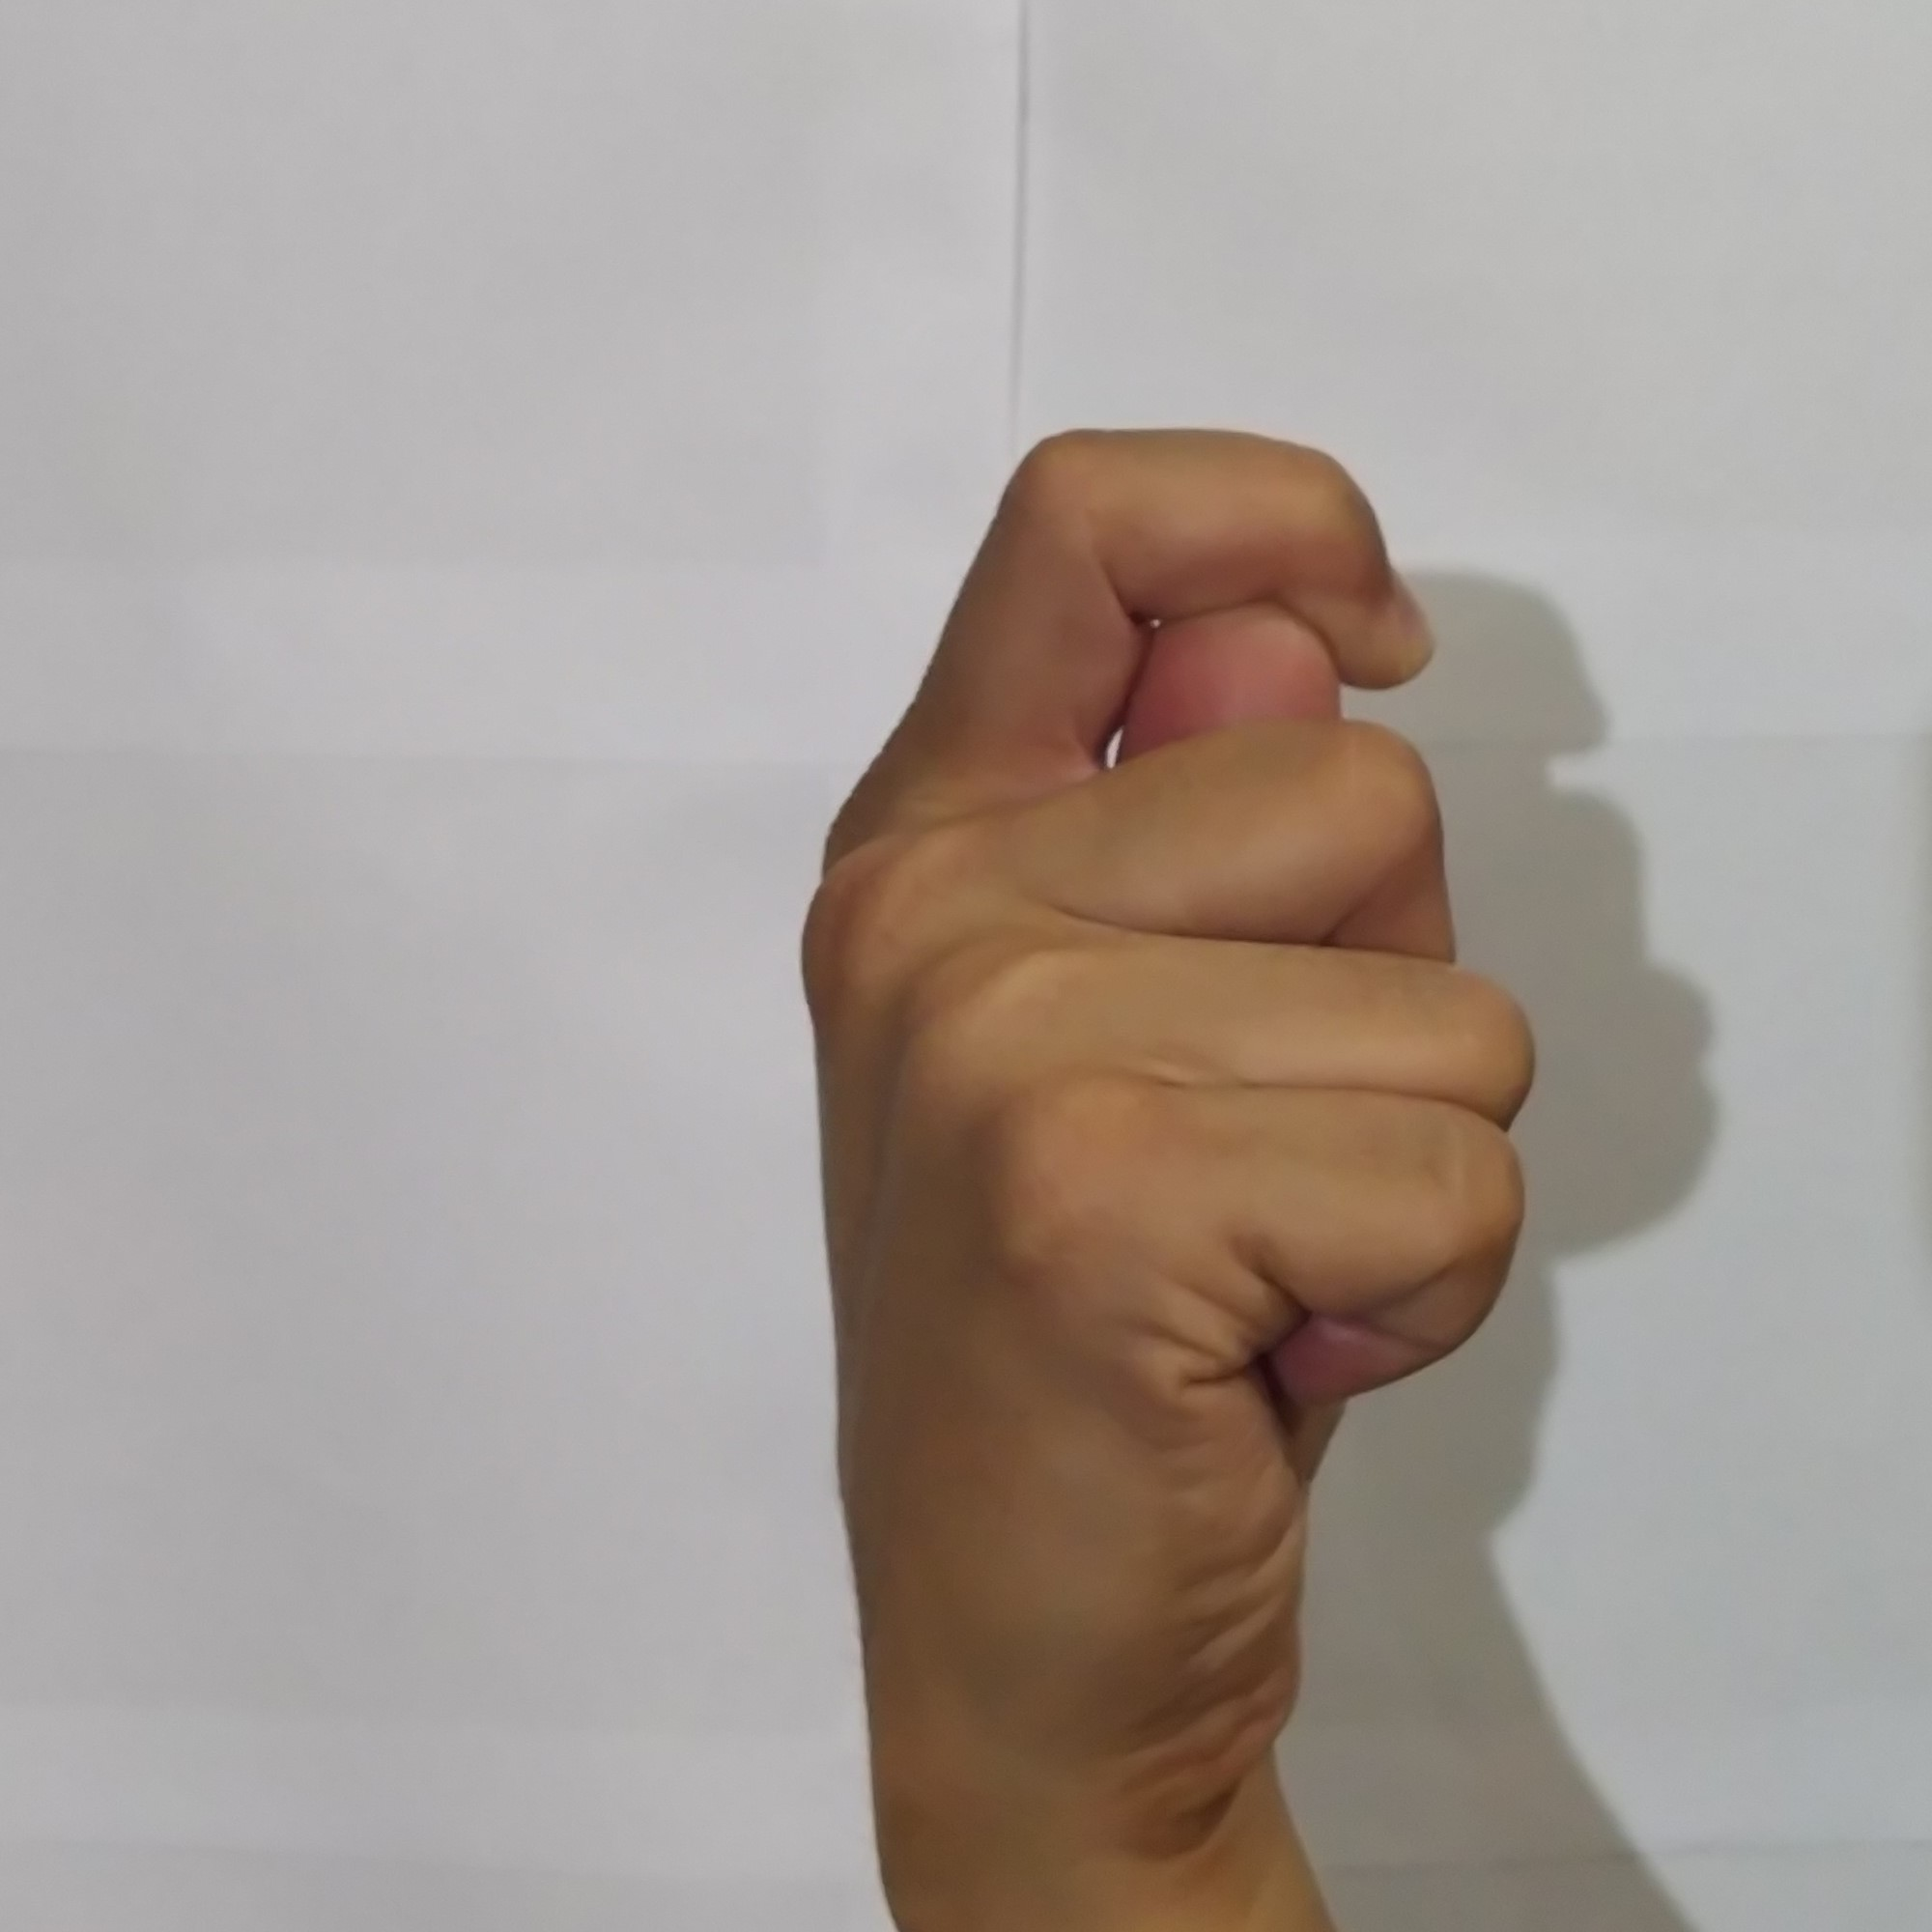T: (738, 375, 1559, 1792)
